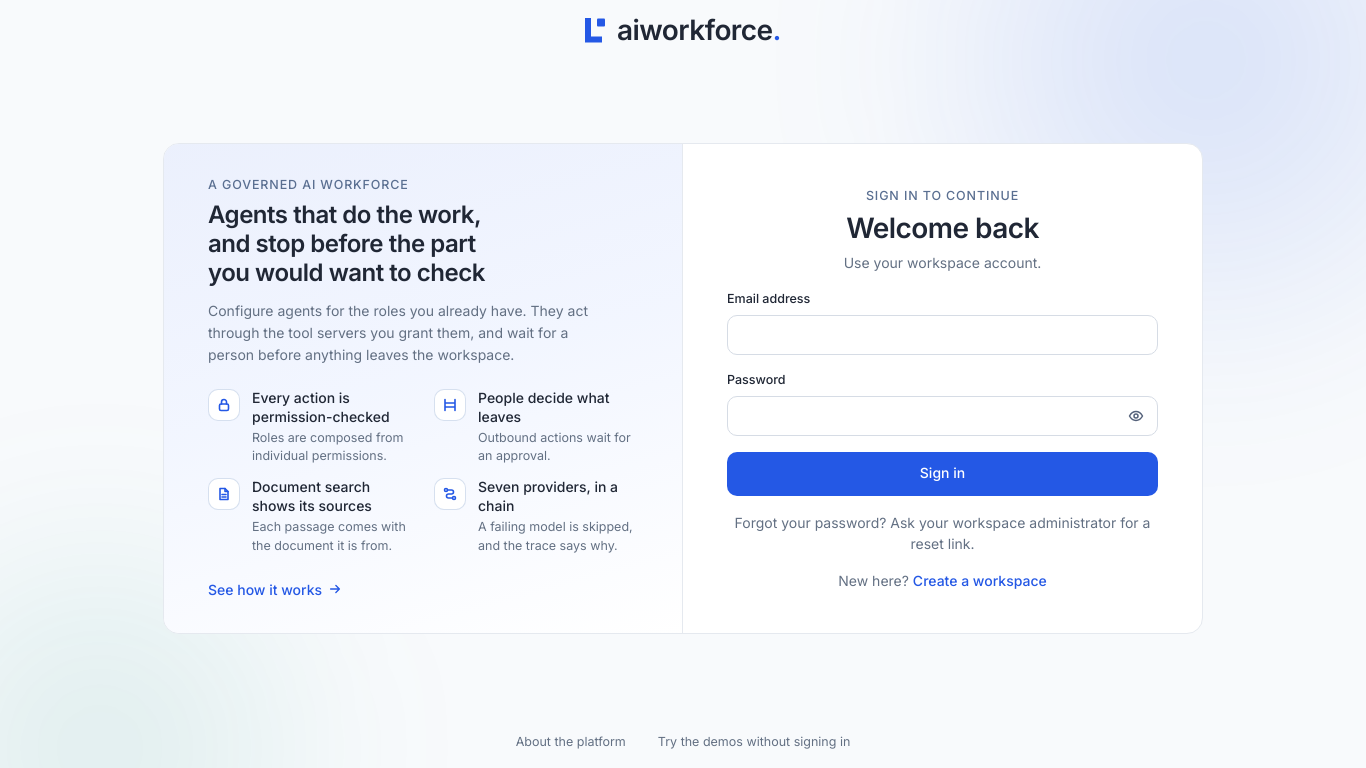
Test: SignIn without demo accounts › explains an unreachable service in plain words
The image size is (1366, 768).
Type "maya@example.com" into the field labelled "Email address" at (942, 335), box [727,315,1158,355]
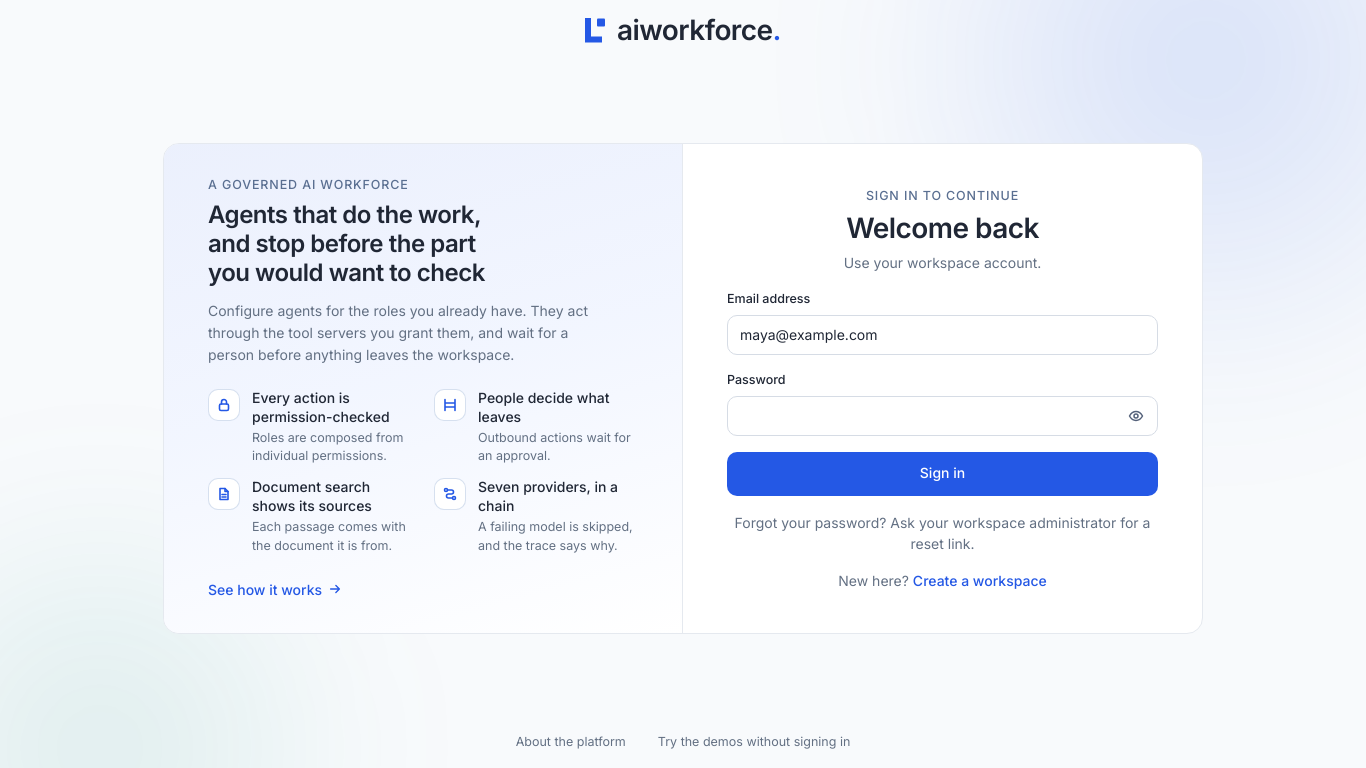
Type "correct horse battery" into the password field labelled "Password" at (942, 416), box [727,396,1158,436]
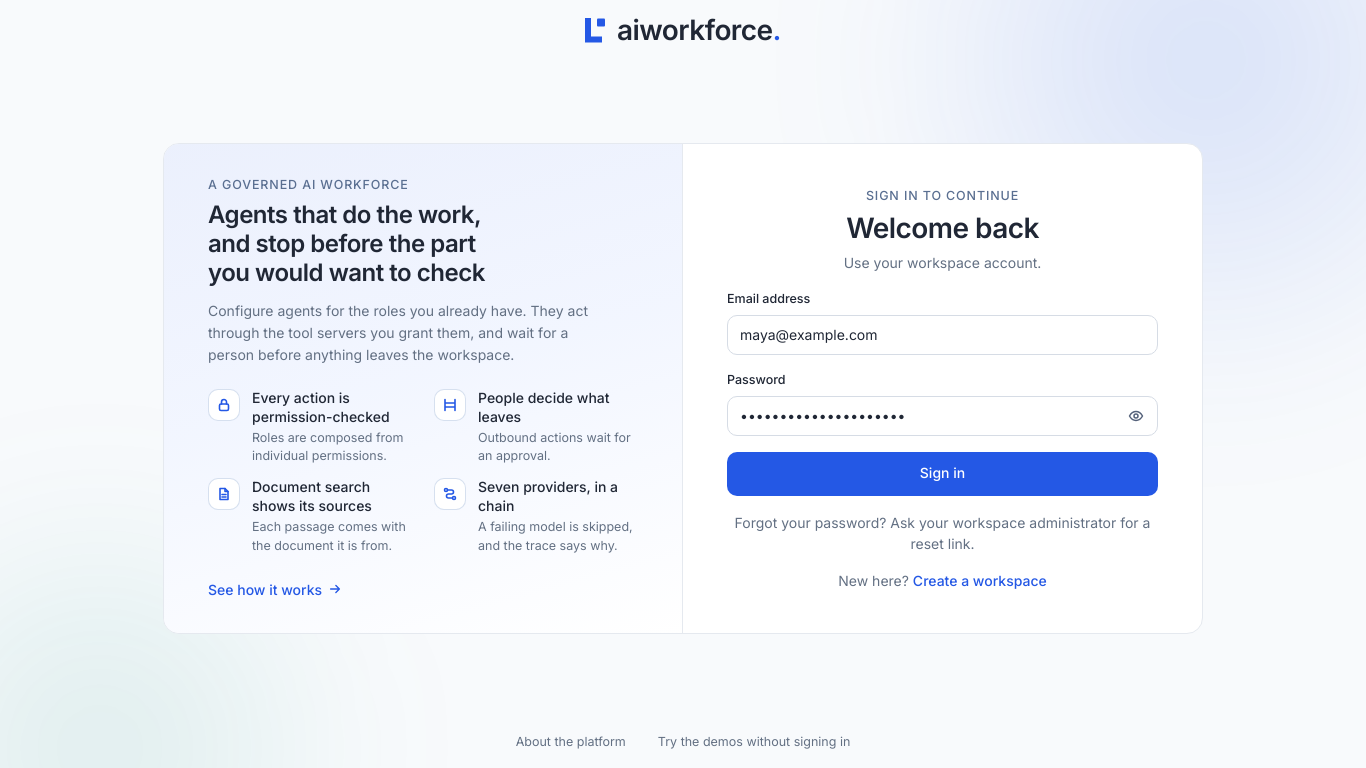
Click the button "Sign in" at (942, 474), box [727,452,1158,496]
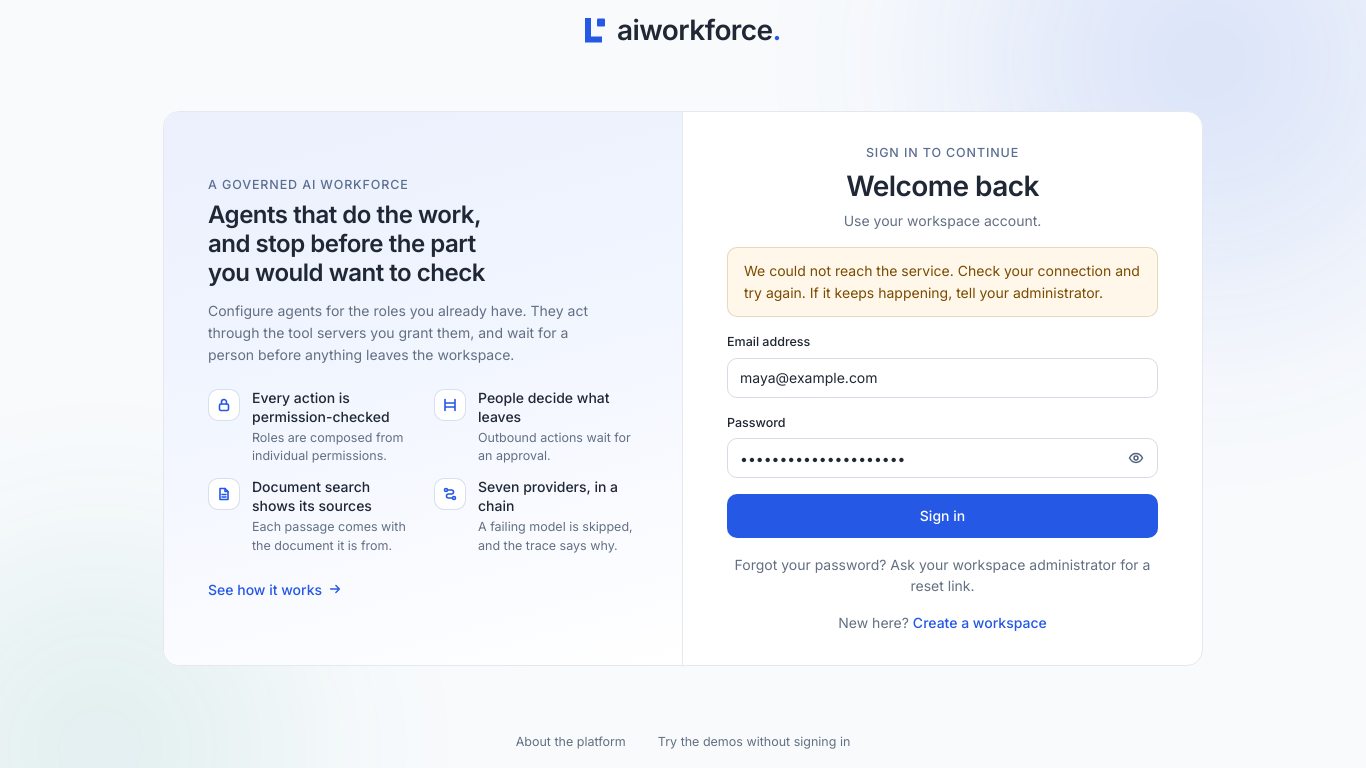
Expected: the message shows "We could not reach the service. Check your connection and try again. If it keeps happening, tell your administrator.", [744,262,1140,301]
